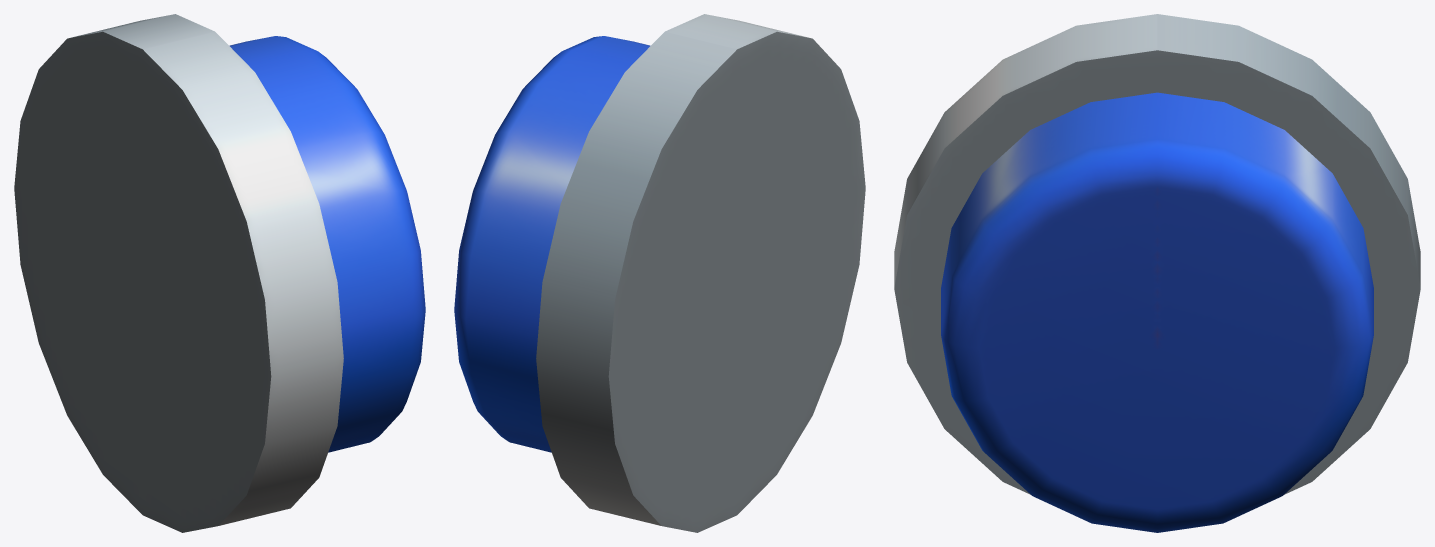
The model's file is 61_ELM_blueButton.fbx.
3 views of the same model, side by side, from view 1: azimuth 30°, elevation 25°; view 2: azimuth 150°, elevation 25°; view 3: azimuth 270°, elevation 25° (orthographic). The views are drawn at different scales.
Visible parts, largest first — view 1: blueButton_part02_grp, blueButton_part01_grp; view 2: blueButton_part02_grp, blueButton_part01_grp; view 3: blueButton_part01_grp, blueButton_part02_grp.
Boxes of the visible parts, x1=… form: blueButton_part02_grp: x1=14, y1=14, x2=343, y2=532; blueButton_part01_grp: x1=229, y1=36, x2=425, y2=452; blueButton_part02_grp: x1=536, y1=14, x2=865, y2=532; blueButton_part01_grp: x1=454, y1=36, x2=650, y2=452; blueButton_part01_grp: x1=941, y1=92, x2=1373, y2=532; blueButton_part02_grp: x1=894, y1=14, x2=1420, y2=494.
Size of the model in its own units: 0.3969 by 0.9241 by 0.9241.
